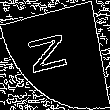N_E: (30, 30, 80, 80)
